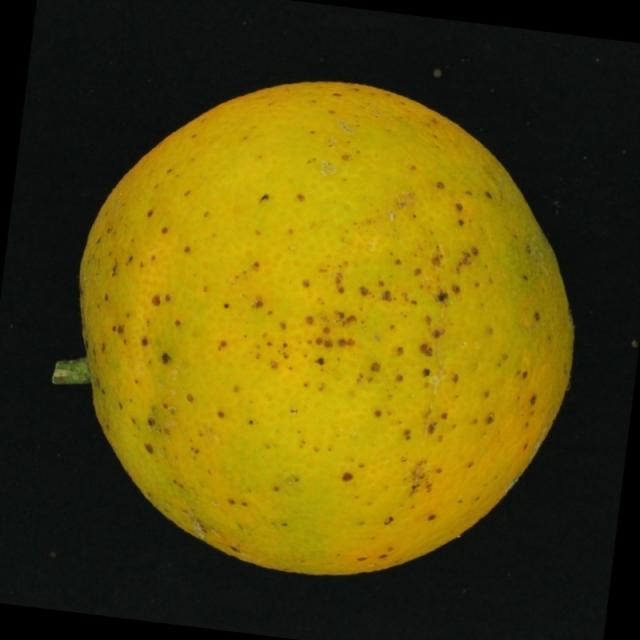grenning: (32, 66, 582, 589)
